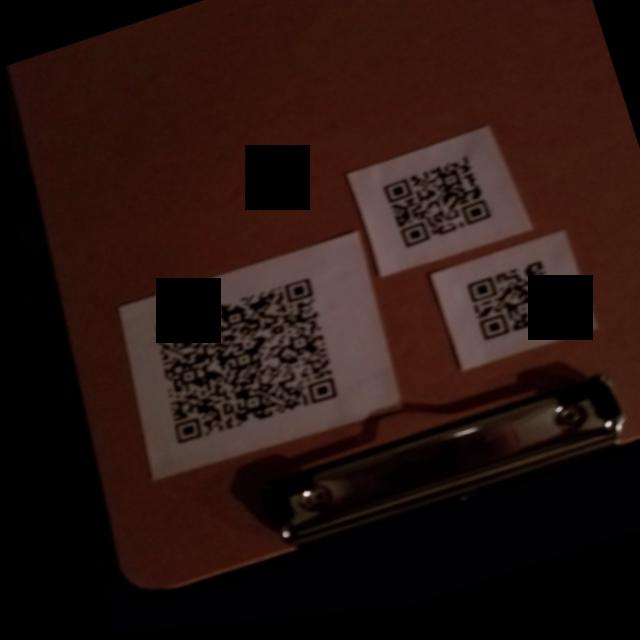QR_CODE: (105, 253, 368, 484), (355, 138, 523, 279), (432, 248, 579, 375)
